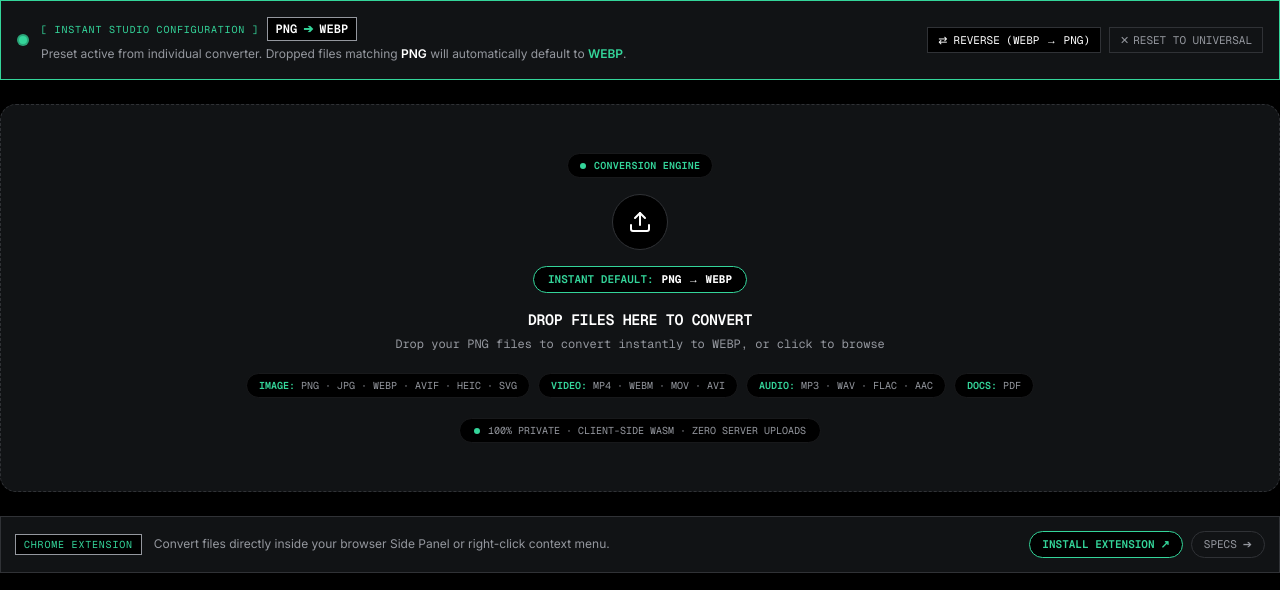
Test case: MasterConverterClient › allows reversing and resetting the configured preset
This screenshot has width=1280, height=590.
Expected: the element with test id "configured-preset-banner" is shown, [0,0,1279,80]
# Click REVERSE
Click the button "⇄ REVERSE (WEBP → PNG)": (1014, 40) [927,27,1101,53]
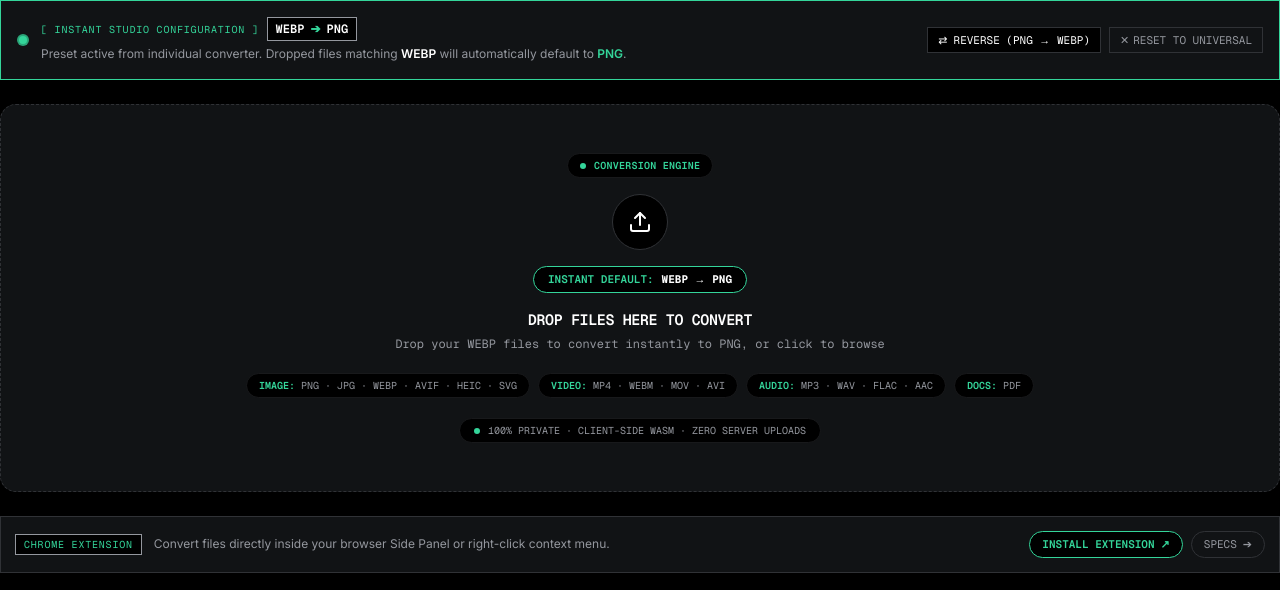
Expected: the element with test id "configured-preset-banner" shows "WEBP", [276,21,304,37]
Expected: the element with test id "configured-preset-banner" shows "PNG", [326,21,348,37]
Click the button "✕ RESET TO UNIVERSAL": (1186, 40) [1109,27,1263,53]
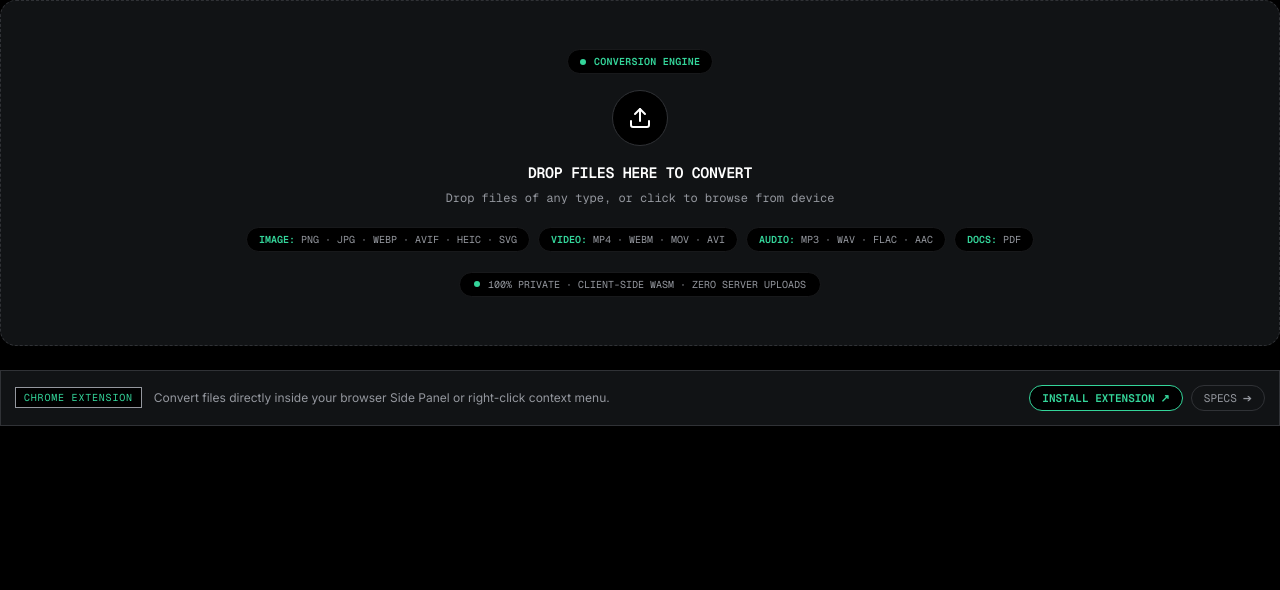
Expected: the element with test id "configured-preset-banner" is gone
